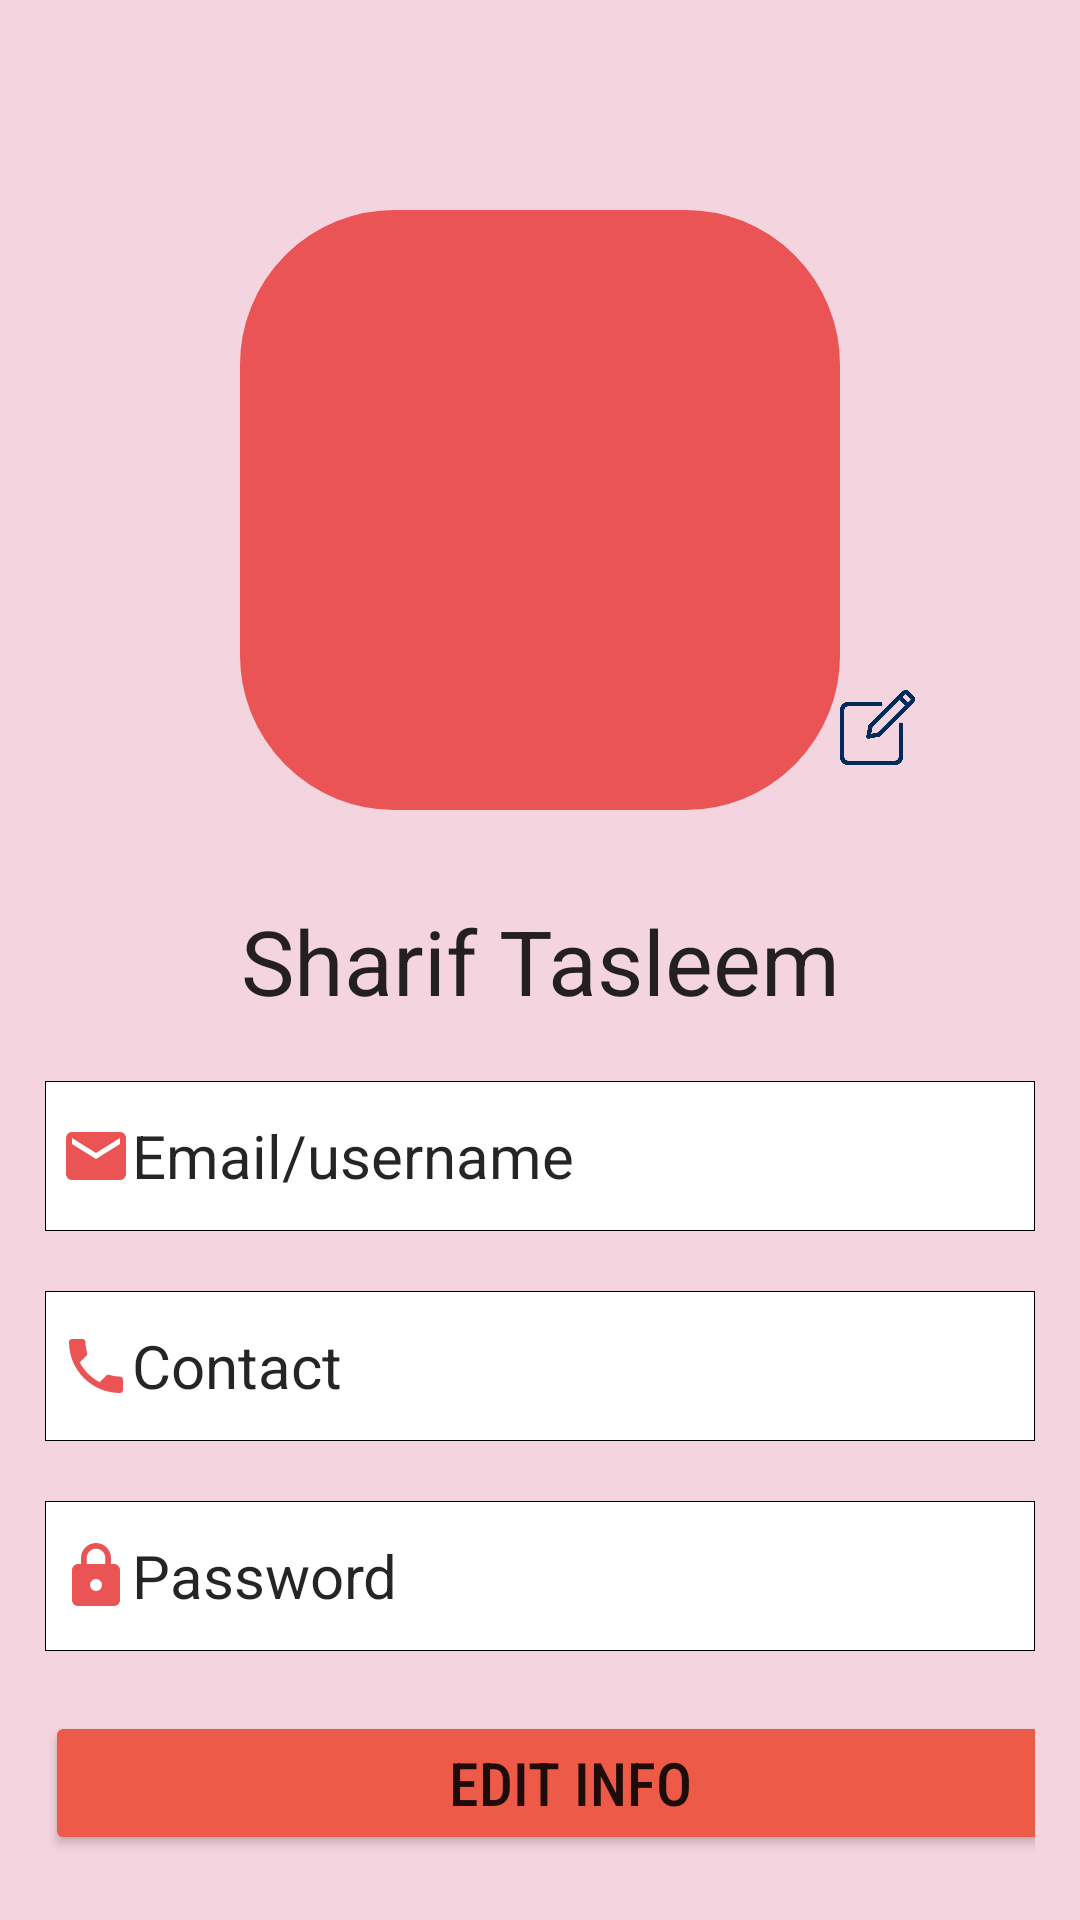

Icons on this 1080px×1920px Android screen, each with its box as (x1, y1, x2, y2):
editing: (840, 690, 915, 765)
